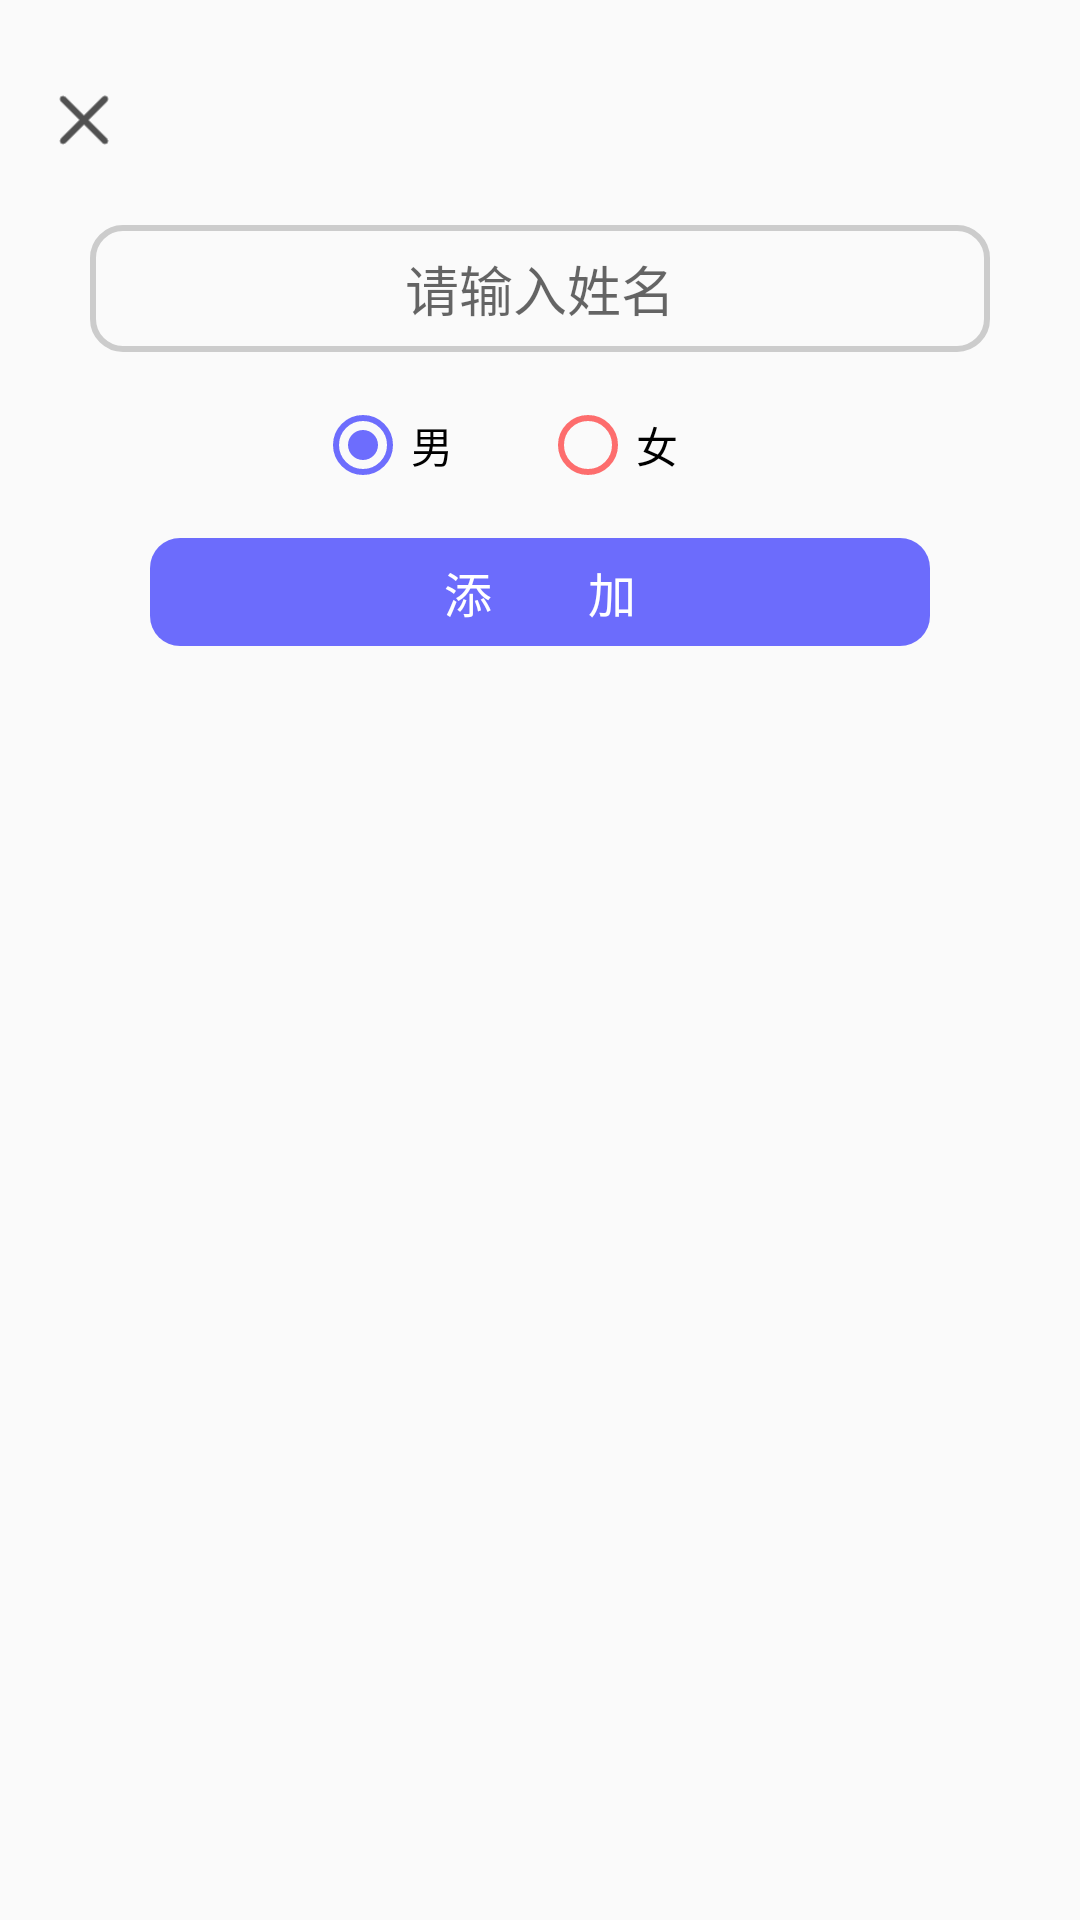

Point at icon controls on the screen. Image size 1080×1920, points as point (x, y).
del: point (84, 120)
